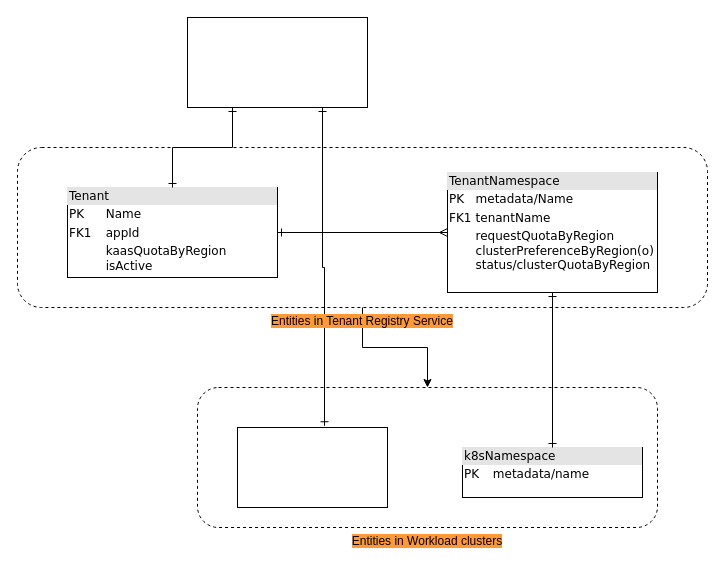
Some shapes in this 725 by 566 pixel diagram are drawn without their labels. Here are the shapes that lost their labels. From the top down, the centre of each, then its label:
point 277,62: AppId PK Name Owner Delegates Members
point 312,467: RoleBinding (for CRUD permissions) PK Name FK1 Users
